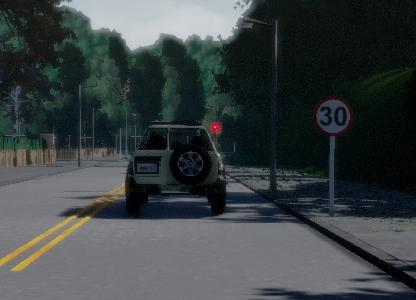Speed_30: (312, 95, 355, 138)
